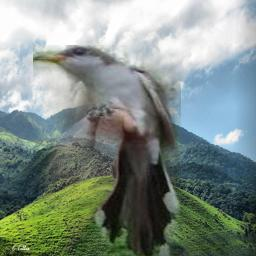Cuckoo: (33, 45, 181, 256)
